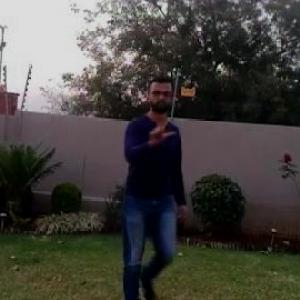land_hand: (148, 114, 176, 144)
